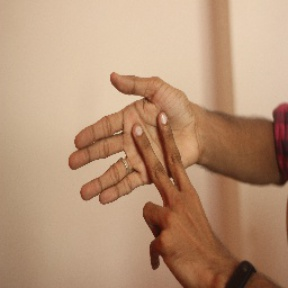N: (62, 68, 212, 265)
